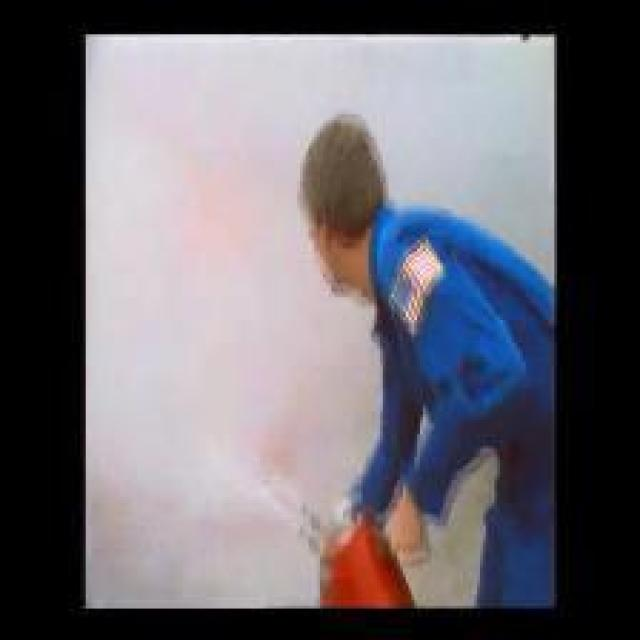other: (259, 464, 445, 601)
